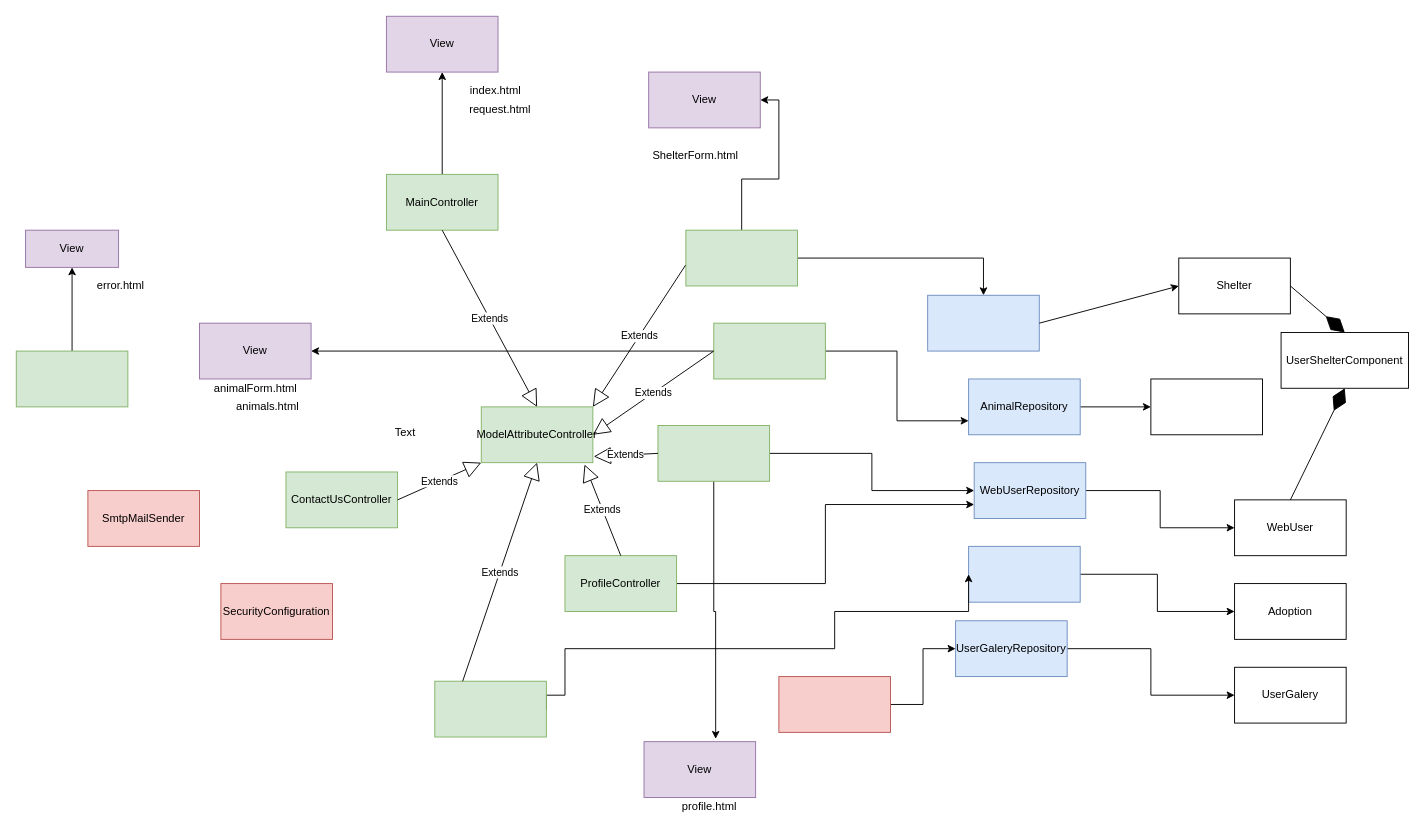
This 1425x832 diagram has some shape labels left out. Here are the shapes that lost their labels. From the top down, the centre of each, then its label:
At (x=741, y=257): "ShelterFormController".
At (x=983, y=322): "ShelterRepository".
At (x=769, y=350): "AnimalFormController".
At (x=71, y=378): "MyErrorController".
At (x=1206, y=406): "Animal".
At (x=713, y=453): "UserFormController".
At (x=1024, y=573): "AdoptionRepository".
At (x=490, y=708): "AdoptionMailController".
At (x=834, y=704): "ImageService".
